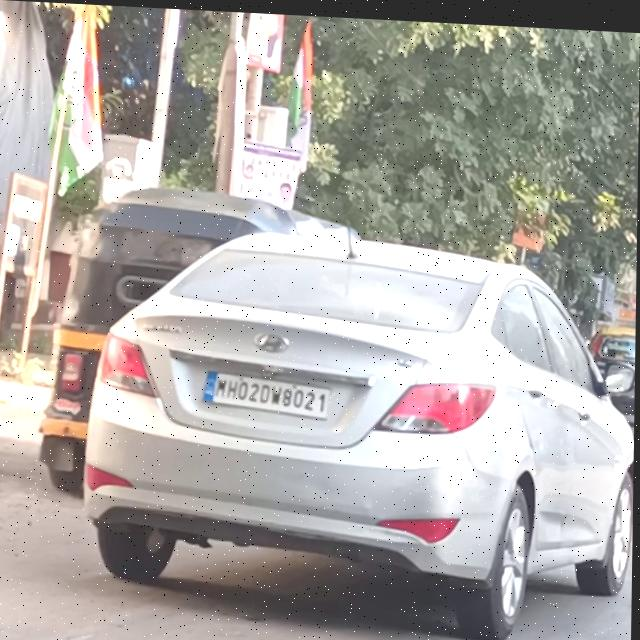plate: (203, 367, 332, 416)
